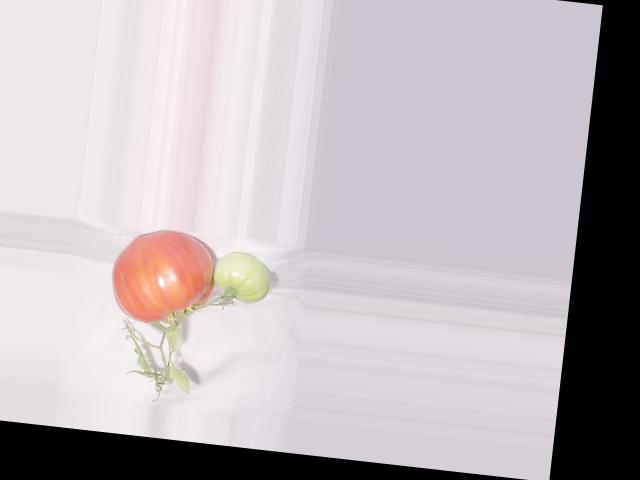tomato: (107, 224, 220, 329)
